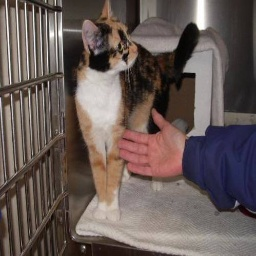cat: (75, 3, 186, 227)
